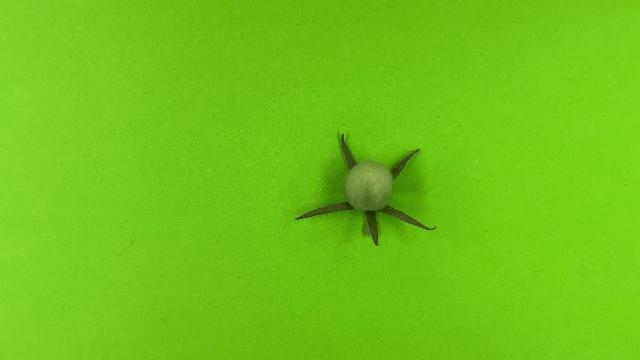Fruit Maturation: (343, 160, 394, 212)
